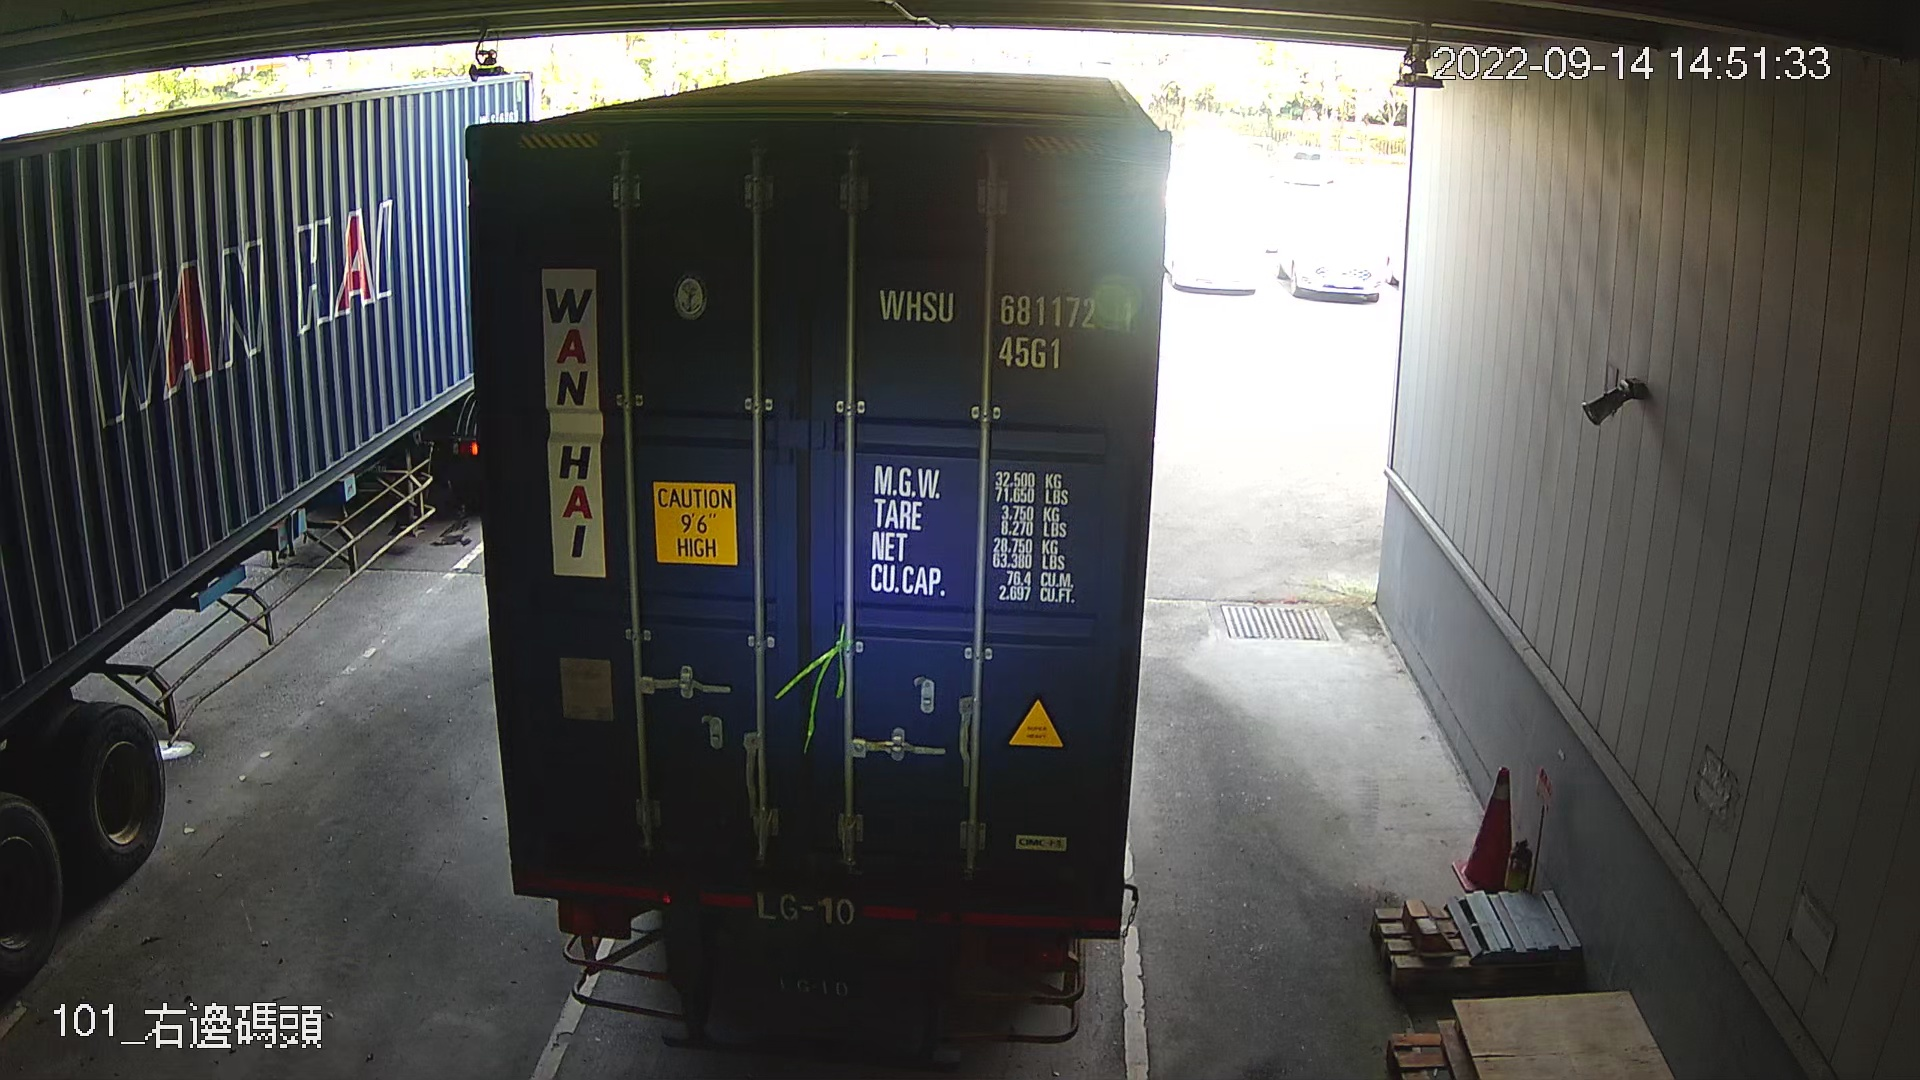container: (870, 276, 1145, 382)
